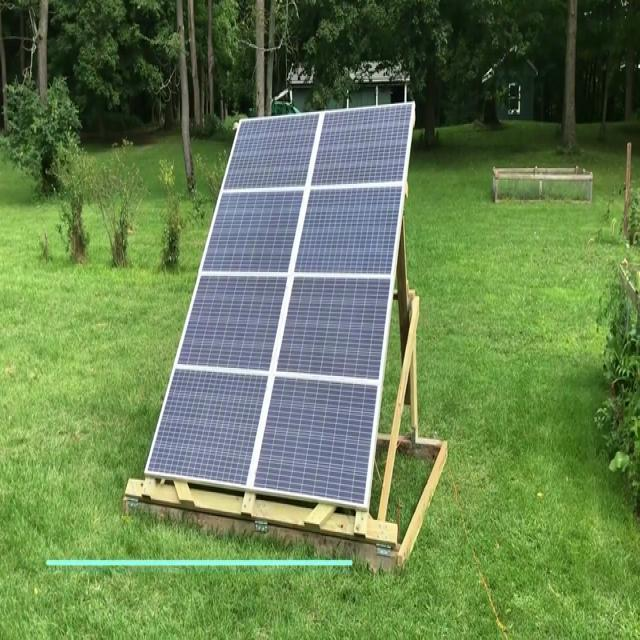Normal Solar Panel: (143, 102, 412, 504)
